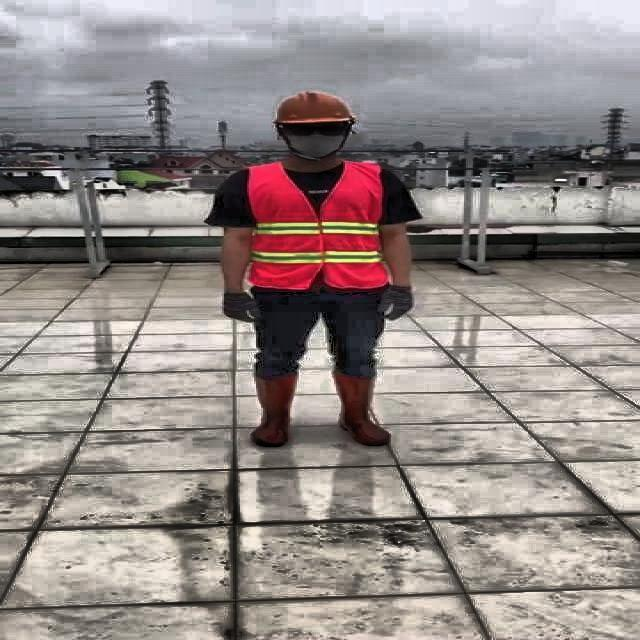safety_helmet: (263, 83, 363, 128)
safety_jacket: (245, 165, 386, 290)
